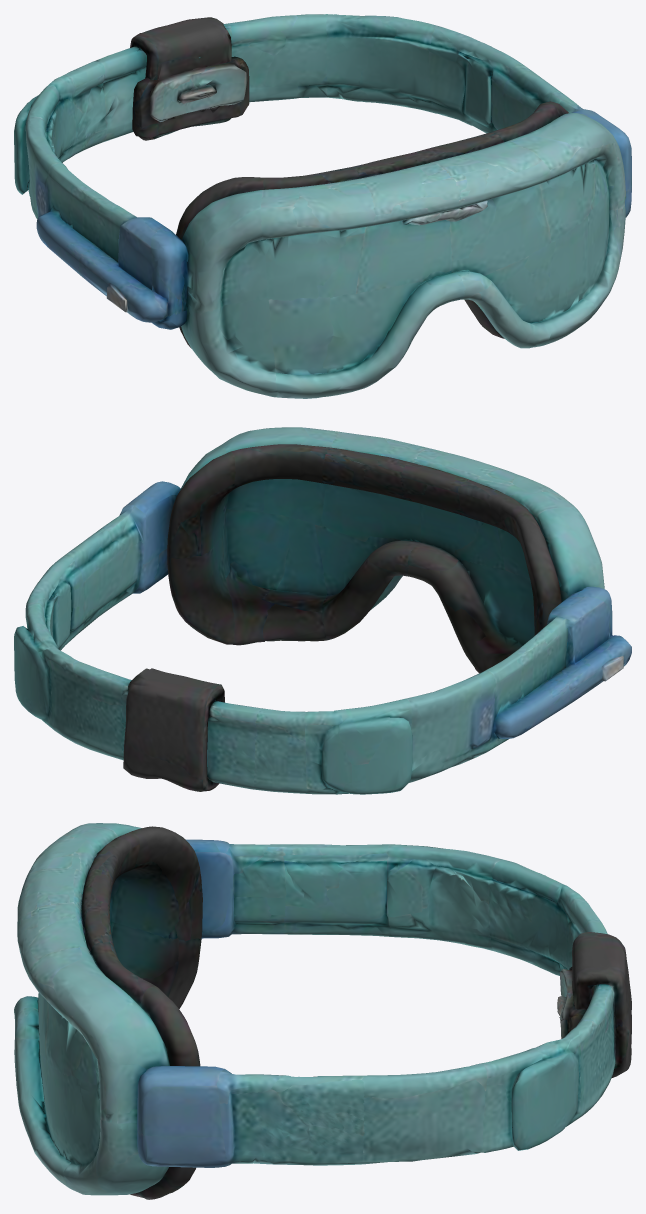
Rendered from acc_face_goggles_01.glb.
3 renders of one model, top to bottom at view 1: azimuth 30°, elevation 25°; view 2: azimuth 150°, elevation 25°; view 3: azimuth 270°, elevation 25°, orthographic. The views are drawn at different scales.
Visible parts, largest first — view 1: acc_face_goggles_01; view 2: acc_face_goggles_01; view 3: acc_face_goggles_01.
Part boxes in pixels (bbox=[...]): acc_face_goggles_01: bbox=[14, 14, 631, 398]; acc_face_goggles_01: bbox=[14, 427, 631, 794]; acc_face_goggles_01: bbox=[14, 823, 631, 1199].
Bounding box in the file's own units: 0.3026 × 0.12 × 0.3084.
Materials: 1 (1 with a texture image).
